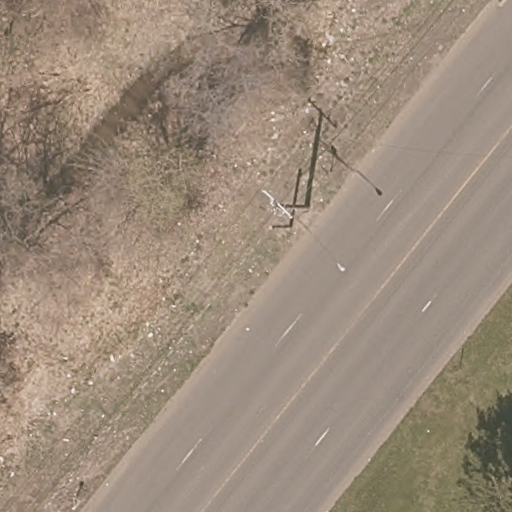DT: (259, 189, 294, 218)
